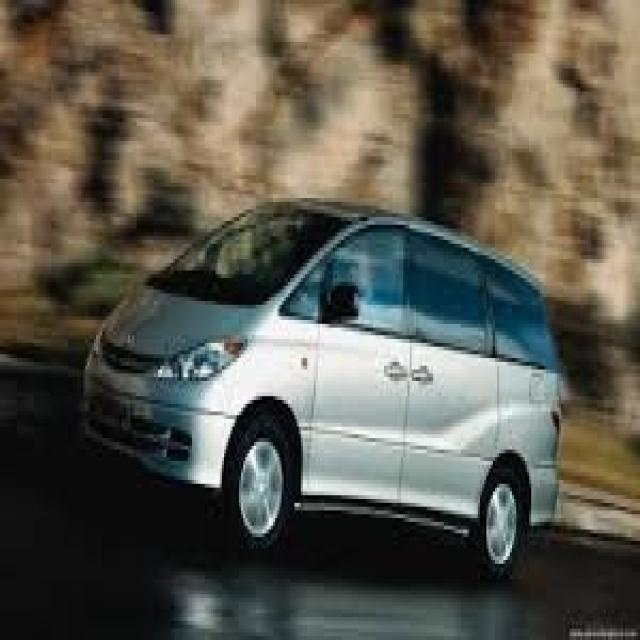Van: (72, 202, 568, 583)
